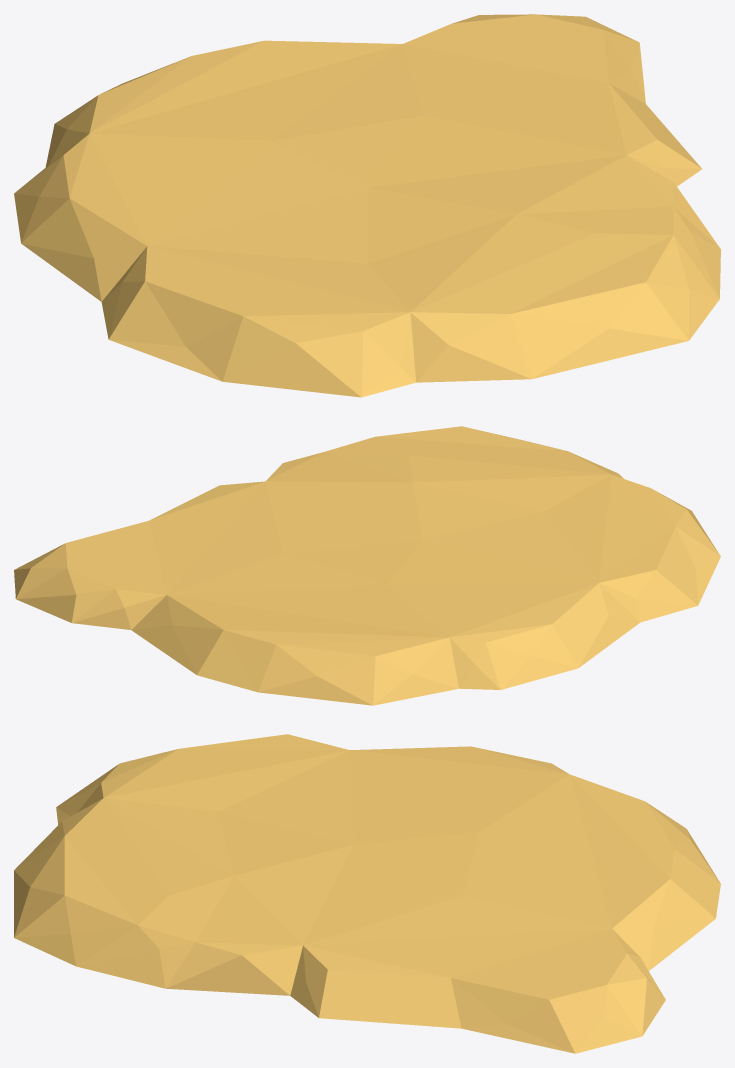
File: map_level_01.fbx
3 views of the same model, one above another, from view 1: azimuth 30°, elevation 25°; view 2: azimuth 150°, elevation 25°; view 3: azimuth 270°, elevation 25° (orthographic). The views are drawn at different scales.
Parts seen in each view (by area): view 1: Plane; view 2: Plane; view 3: Plane.
Part boxes in pixels (<box>): Plane: <box>14,14,720,397</box>; Plane: <box>14,426,720,705</box>; Plane: <box>14,734,720,1053</box>.
Bounding box in the file's own units: 3354 × 216 × 3310.
